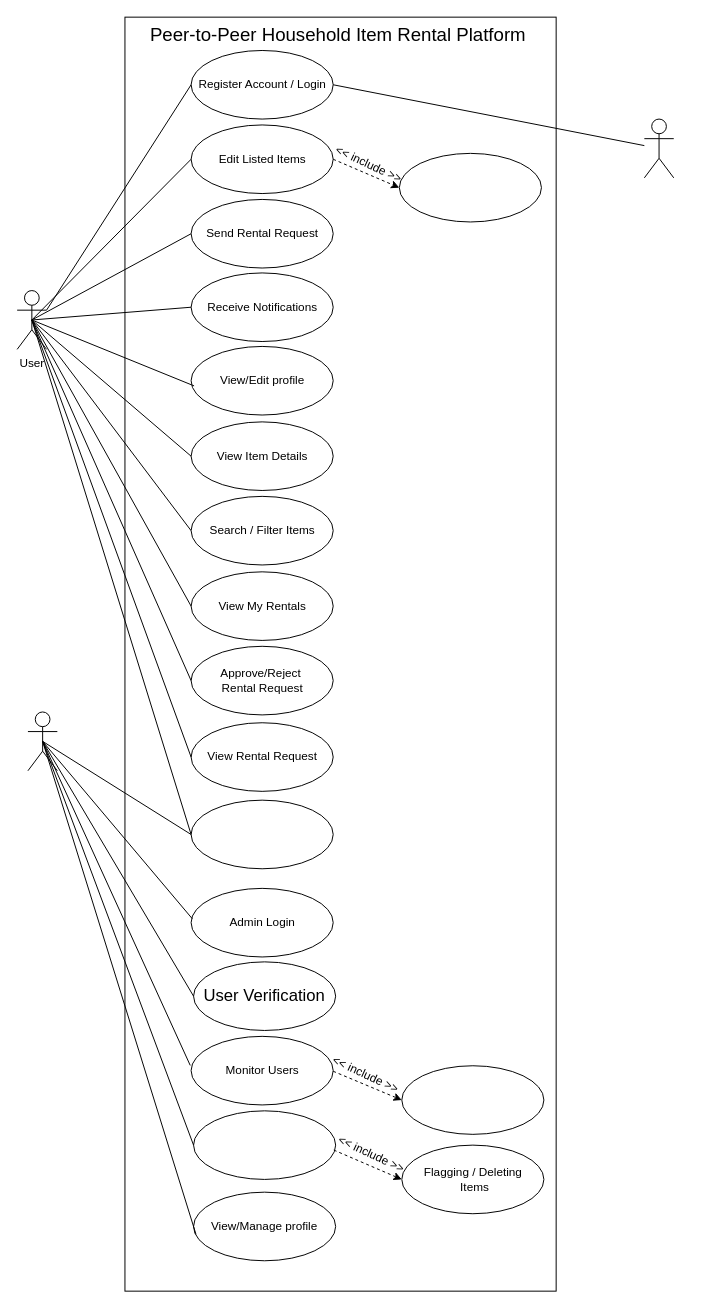
Image size: 706x1308. Some labels were removed from this diagram. The centre of each missing label's shape, as x and y in pixels:
Admin: the point at 42,741
Guest User: the point at 658,148
Logout: the point at 261,834
Monitor Listings: the point at 264,1144
View listing: the point at 469,187
Warning / Banning Users: the point at 472,1099
